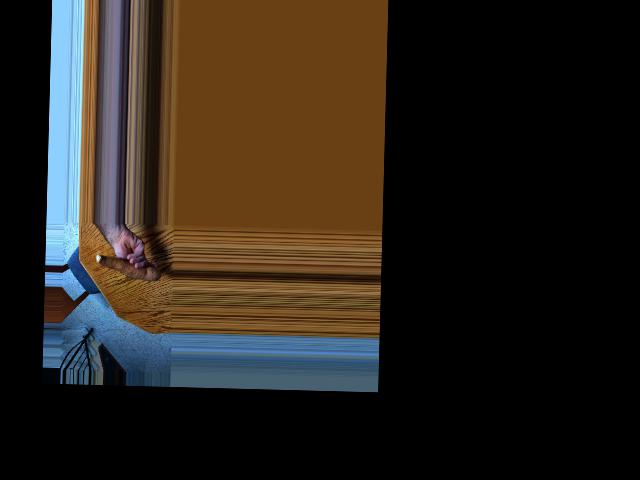sweet_potato: (93, 252, 158, 285)
